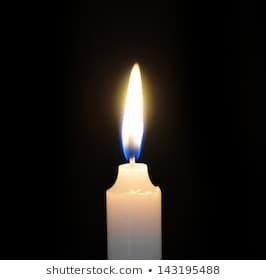fire: (118, 58, 145, 161)
